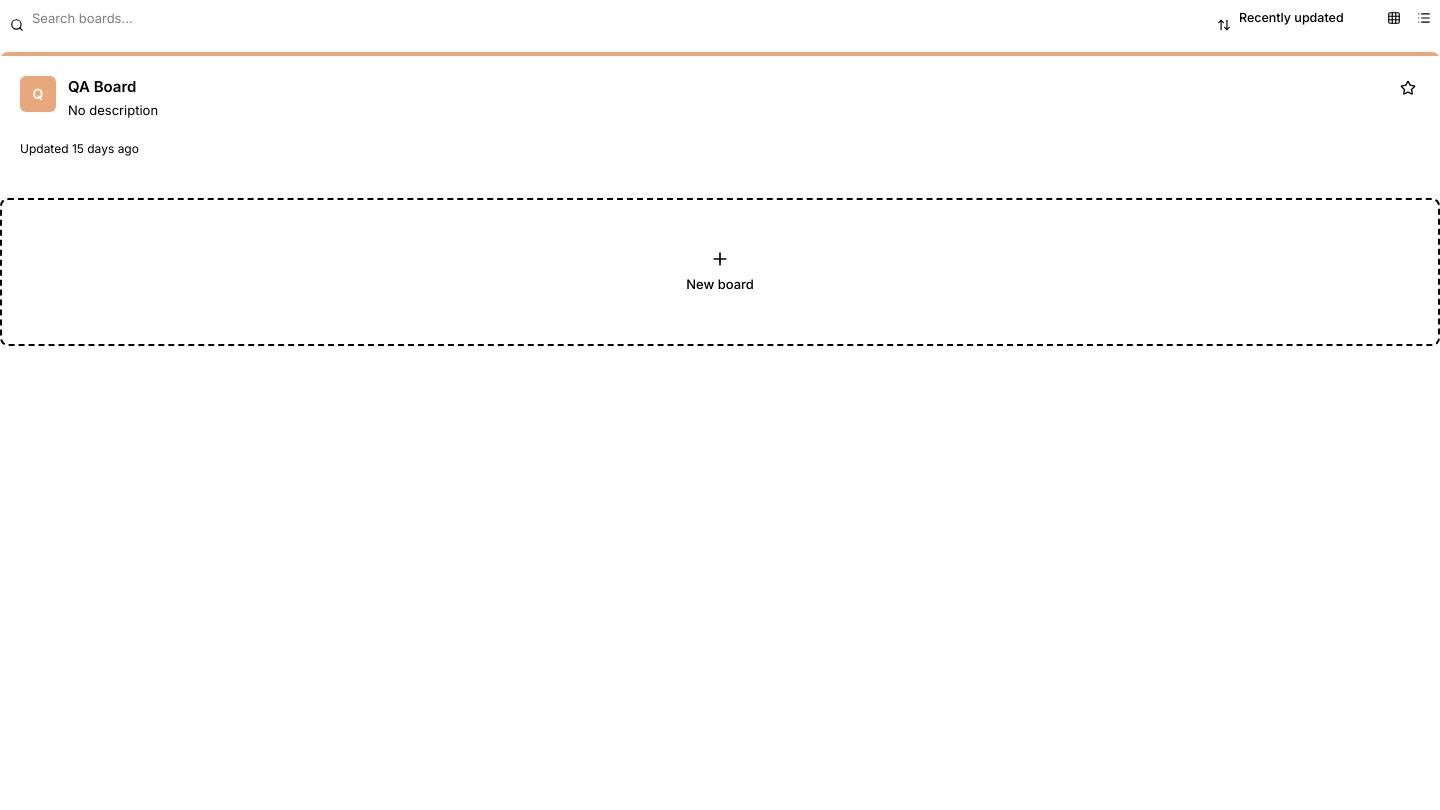
Test case: keeps board creation reachable in filtered-grid
Type "unmatched" into the field with placeholder "Search boards..." at (600, 18), box [0, 0, 1199, 36]
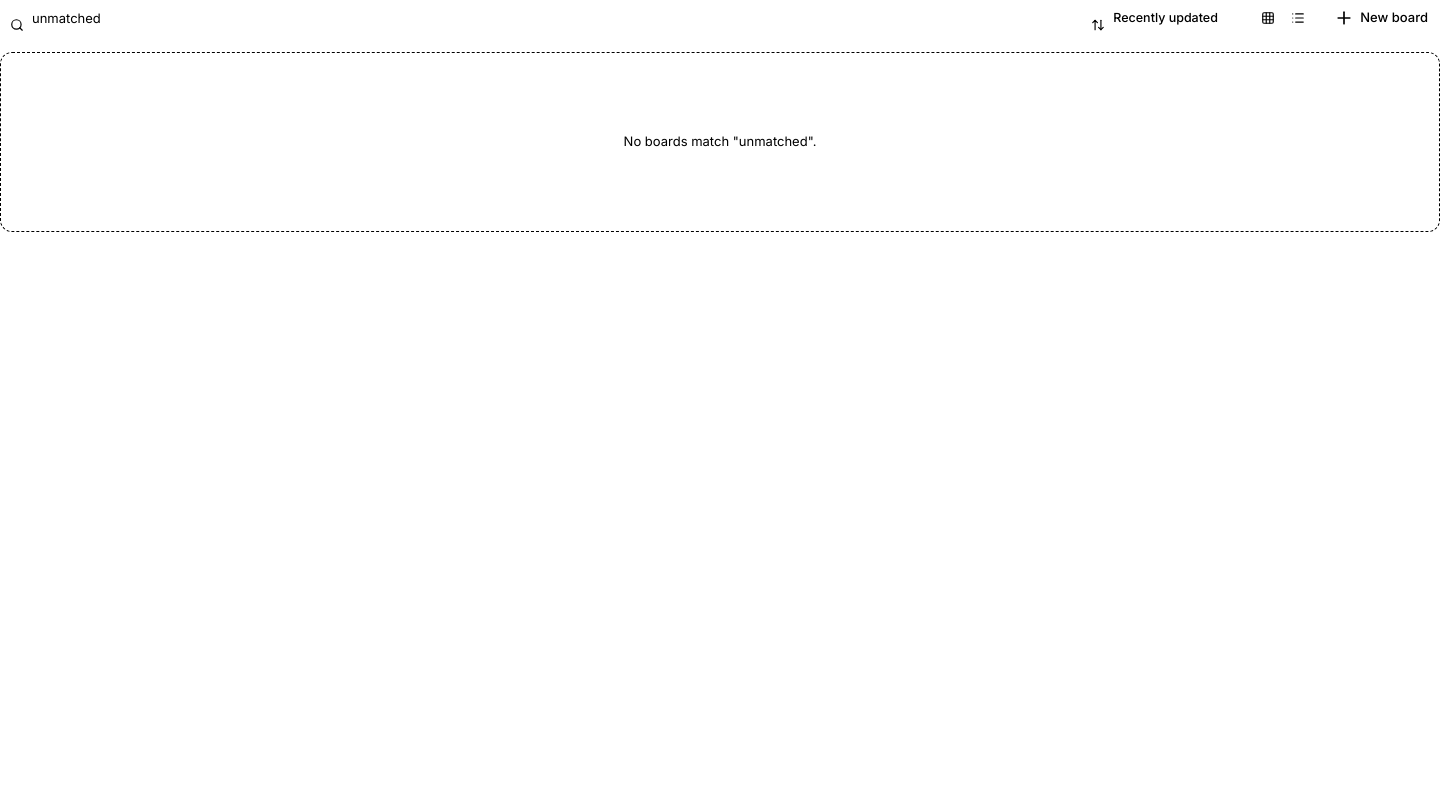
Click the button "New board" at (1381, 18), box [1322, 0, 1439, 36]
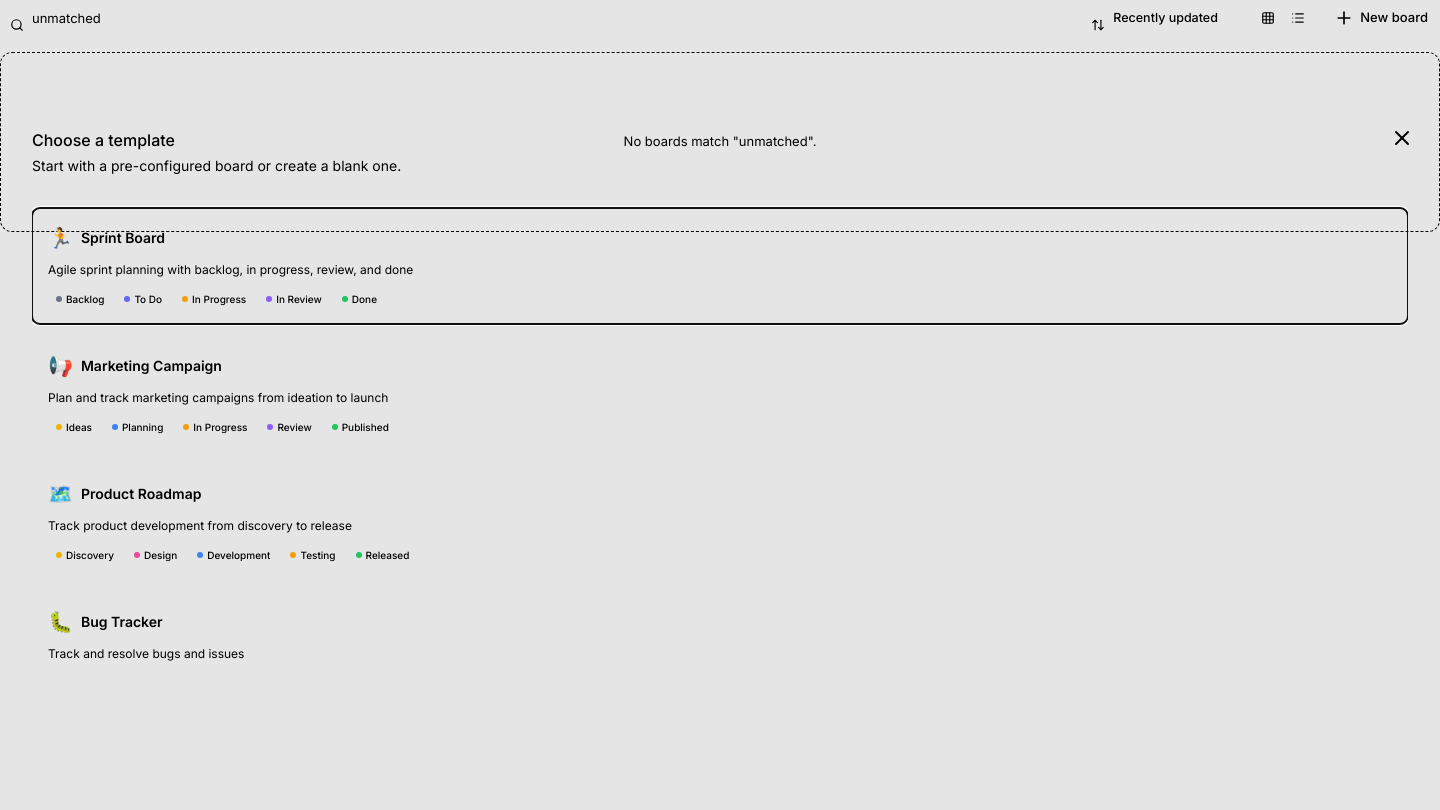
Check: the heading "Choose a template" is shown, box [32, 130, 175, 150]
